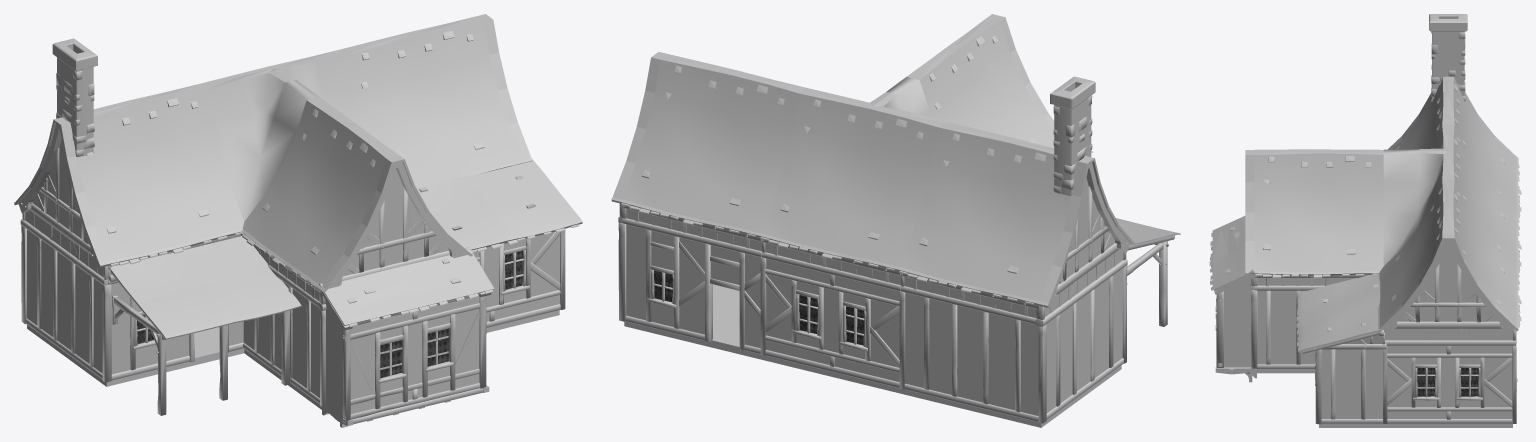
File: House_2.fbx
3 renders of one model, left to right at view 1: azimuth 30°, elevation 25°; view 2: azimuth 150°, elevation 25°; view 3: azimuth 270°, elevation 25°, orthographic. The views are drawn at different scales.
Visible parts, largest first — view 1: StaticMeshComponent07, StaticMeshComponent010, StaticMeshComponent015, StaticMeshComponent02, StaticMeshComponent016, StaticMeshComponent012, StaticMeshComponent0, StaticMeshComponent05, StaticMeshComponent030, StaticMeshComponent011, StaticMeshComponent03, StaticMeshComponent06 (+7 smaller); view 2: StaticMeshComponent013, StaticMeshComponent014, StaticMeshComponent09, StaticMeshComponent028, StaticMeshComponent025, StaticMeshComponent024, StaticMeshComponent02, StaticMeshComponent030, StaticMeshComponent011, StaticMeshComponent08, StaticMeshComponent034, StaticMeshComponent016 (+7 smaller); view 3: StaticMeshComponent01, StaticMeshComponent018, StaticMeshComponent017, StaticMeshComponent07, StaticMeshComponent0, StaticMeshComponent012, StaticMeshComponent019, StaticMeshComponent014, StaticMeshComponent013, StaticMeshComponent09, StaticMeshComponent015, StaticMeshComponent04 (+8 smaller).
Part boxes in pixels (left/top/right/bottom): StaticMeshComponent07: left=319, top=247, right=494, bottom=427; StaticMeshComponent010: left=76, top=86, right=244, bottom=284; StaticMeshComponent015: left=342, top=19, right=522, bottom=187; StaticMeshComponent02: left=240, top=98, right=392, bottom=306; StaticMeshComponent016: left=108, top=236, right=301, bottom=415; StaticMeshComponent012: left=205, top=53, right=360, bottom=221; StaticMeshComponent0: left=416, top=159, right=582, bottom=253; StaticMeshComponent05: left=318, top=155, right=472, bottom=310; StaticMeshComponent030: left=25, top=229, right=111, bottom=382; StaticMeshComponent011: left=14, top=117, right=110, bottom=285; StaticMeshComponent03: left=473, top=231, right=565, bottom=327; StaticMeshComponent06: left=243, top=281, right=325, bottom=407; StaticMeshComponent013: left=760, top=91, right=941, bottom=291; StaticMeshComponent014: left=621, top=57, right=802, bottom=257; StaticMeshComponent09: left=899, top=124, right=1071, bottom=324; StaticMeshComponent028: left=904, top=292, right=1046, bottom=423; StaticMeshComponent025: left=765, top=259, right=905, bottom=389; StaticMeshComponent024: left=625, top=224, right=766, bottom=355; StaticMeshComponent02: left=913, top=19, right=1054, bottom=147; StaticMeshComponent030: left=1046, top=265, right=1127, bottom=419; StaticMeshComponent011: left=1035, top=156, right=1134, bottom=326; StaticMeshComponent08: left=1050, top=76, right=1095, bottom=196; StaticMeshComponent034: left=624, top=284, right=763, bottom=359; StaticMeshComponent016: left=1116, top=218, right=1180, bottom=326; StaticMeshComponent01: left=1254, top=151, right=1383, bottom=290; StaticMeshComponent018: left=1387, top=343, right=1516, bottom=423; StaticMeshComponent017: left=1378, top=234, right=1518, bottom=345; StaticMeshComponent07: left=1209, top=216, right=1257, bottom=382; StaticMeshComponent0: left=1296, top=273, right=1386, bottom=353; StaticMeshComponent012: left=1383, top=125, right=1448, bottom=265; StaticMeshComponent019: left=1321, top=346, right=1387, bottom=423; StaticMeshComponent014: left=1448, top=179, right=1521, bottom=343; StaticMeshComponent013: left=1448, top=125, right=1521, bottom=272; StaticMeshComponent09: left=1448, top=76, right=1521, bottom=217; StaticMeshComponent015: left=1378, top=179, right=1448, bottom=325; StaticMeshComponent04: left=1257, top=290, right=1315, bottom=368.
Bounding box in the file's own units: 1888 × 1353 × 1447.
